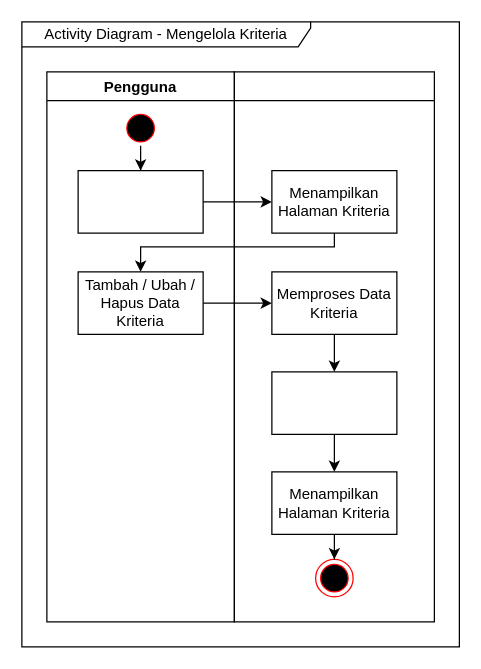
Some shapes in this 481 by 669 pixel diagram are drawn without their labels. The shapes that lost their labels are listed below. From the top down, each one's box as (x1, y1, x2, y2) in pixels, then its label:
(77, 169, 203, 233): Membuka Menu Kriteria
(233, 71, 434, 622): Sistem
(271, 371, 397, 434): Menyimpan Data Kriteria
